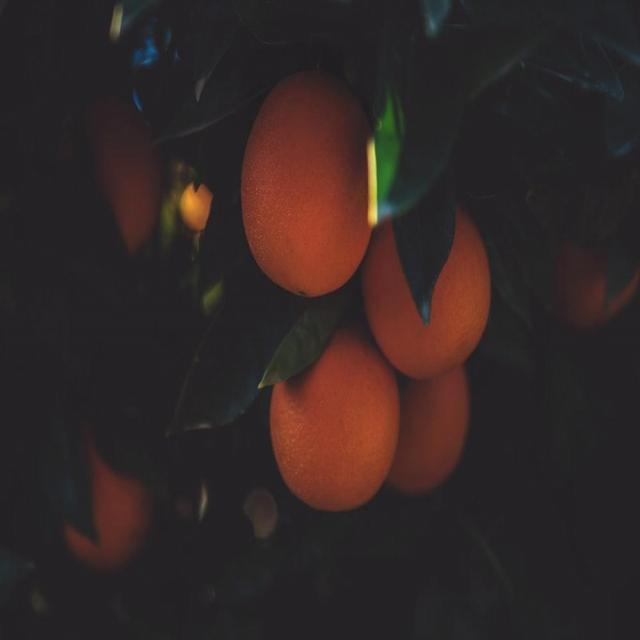Jeruk Sudah Matang: (244, 68, 377, 300), (268, 302, 399, 516), (364, 177, 494, 382), (356, 299, 473, 499), (64, 424, 164, 572), (81, 102, 169, 262), (535, 222, 640, 332)
